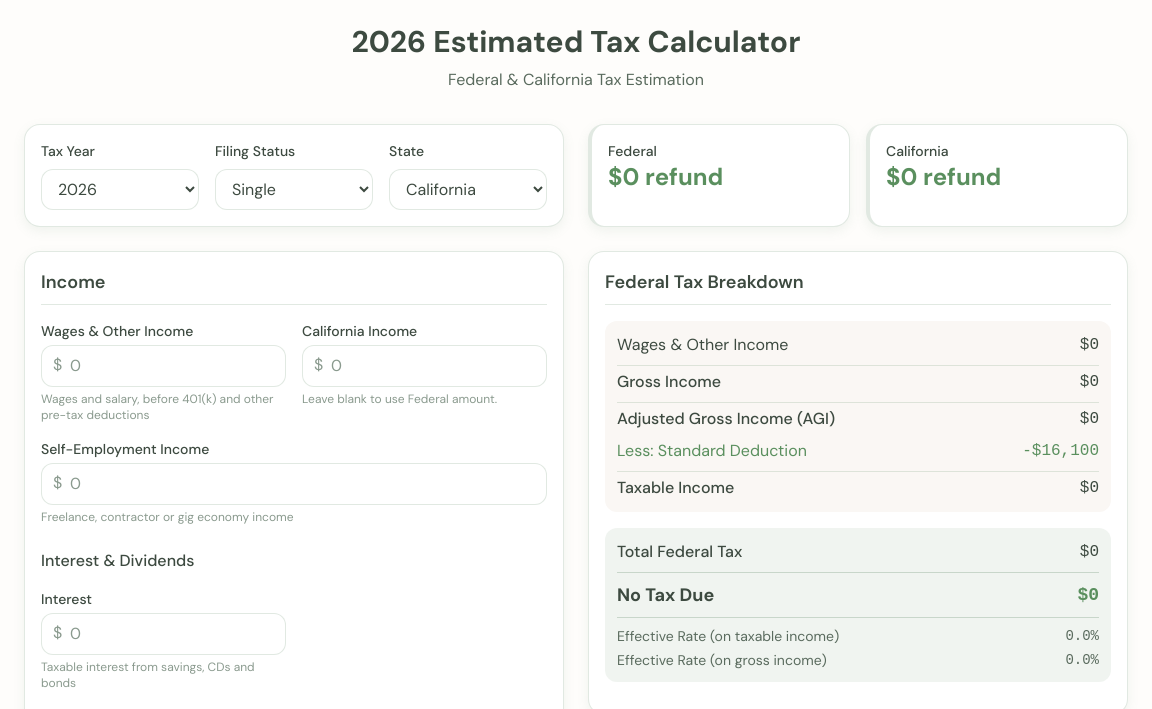
TaxCalculator › recalculates for the tax year chosen
Step 1. Type "100000" into the field labelled "Wages & Other Income" → (164, 366), box [41, 345, 286, 387]
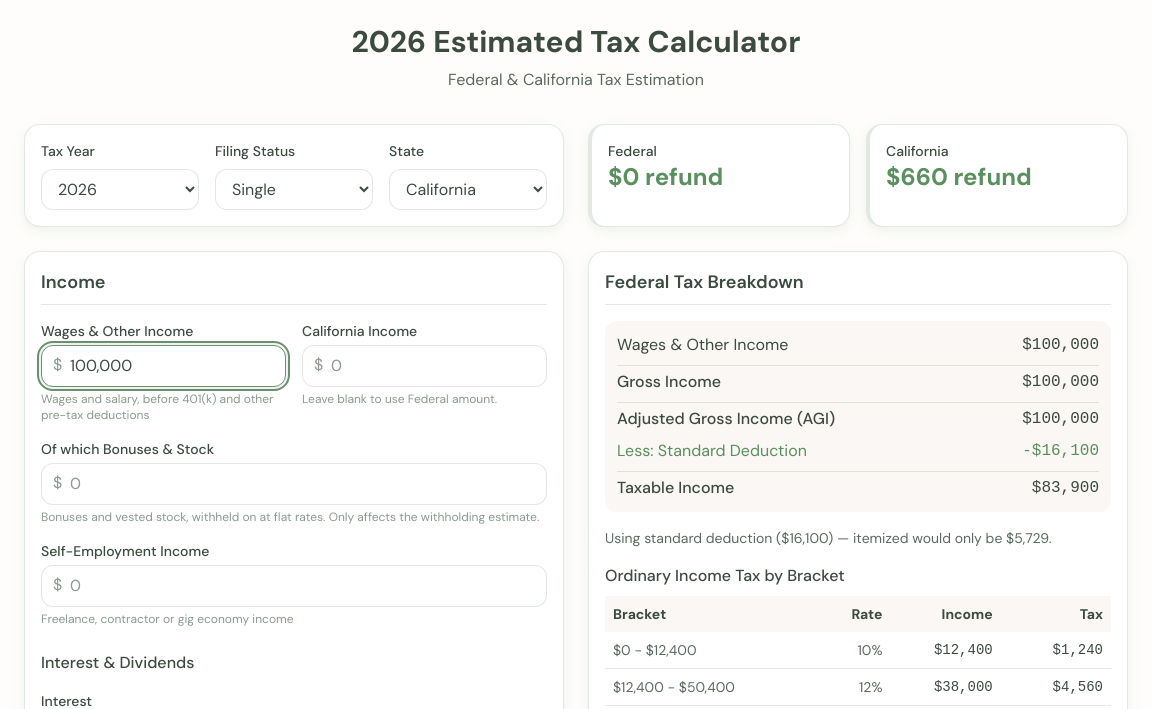
Step 2. Press Tab
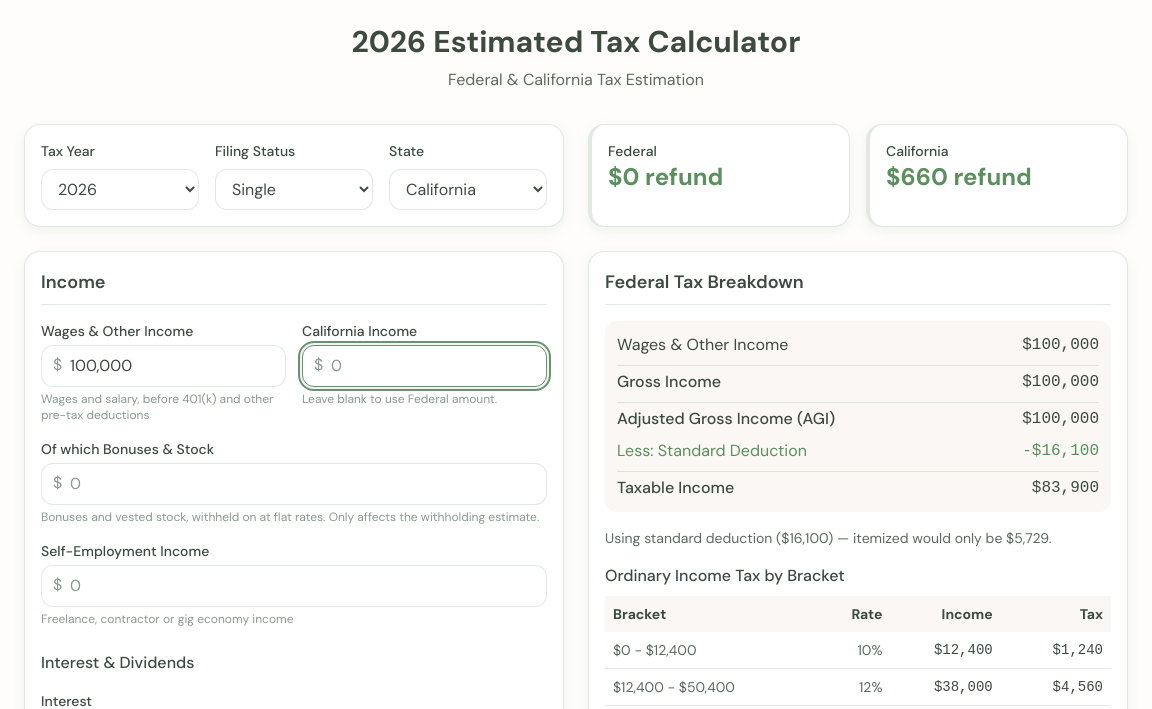
Step 3. Select "2025" in the dropdown labelled "Tax Year" → (120, 190), box [41, 169, 199, 210]
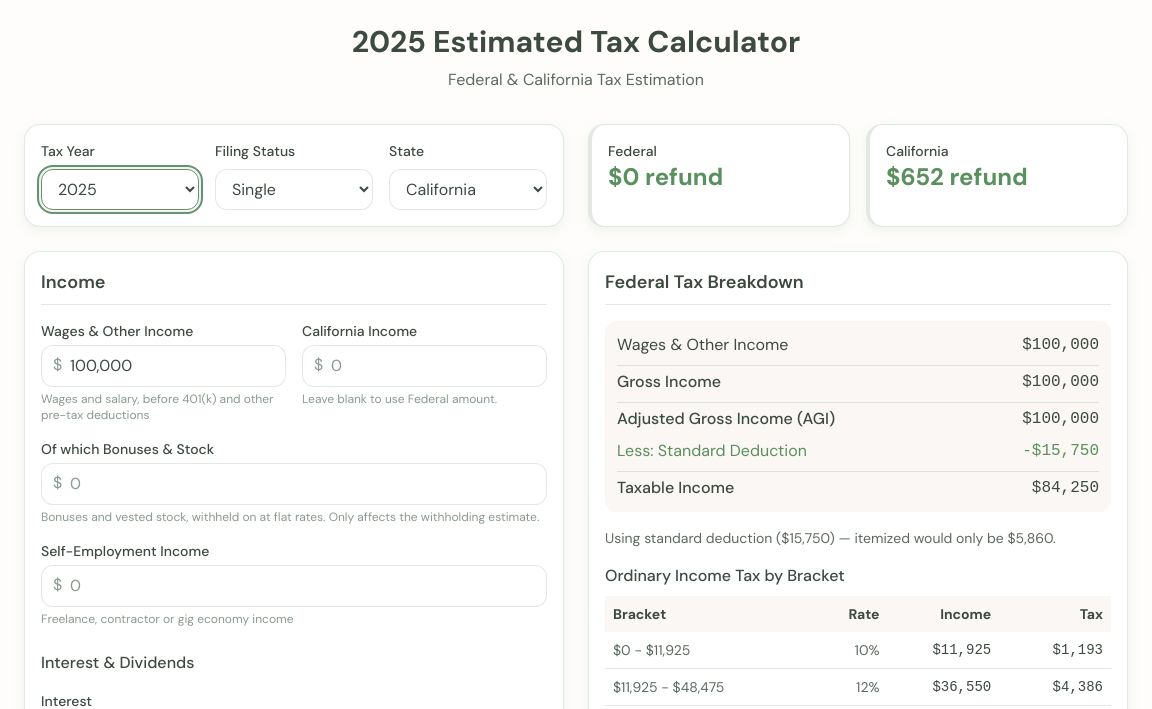
Check: the heading "2025 Estimated Tax Calculator" is shown, box [352, 22, 800, 61]
